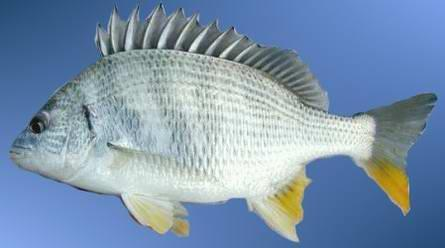fish: (6, 3, 439, 243)
